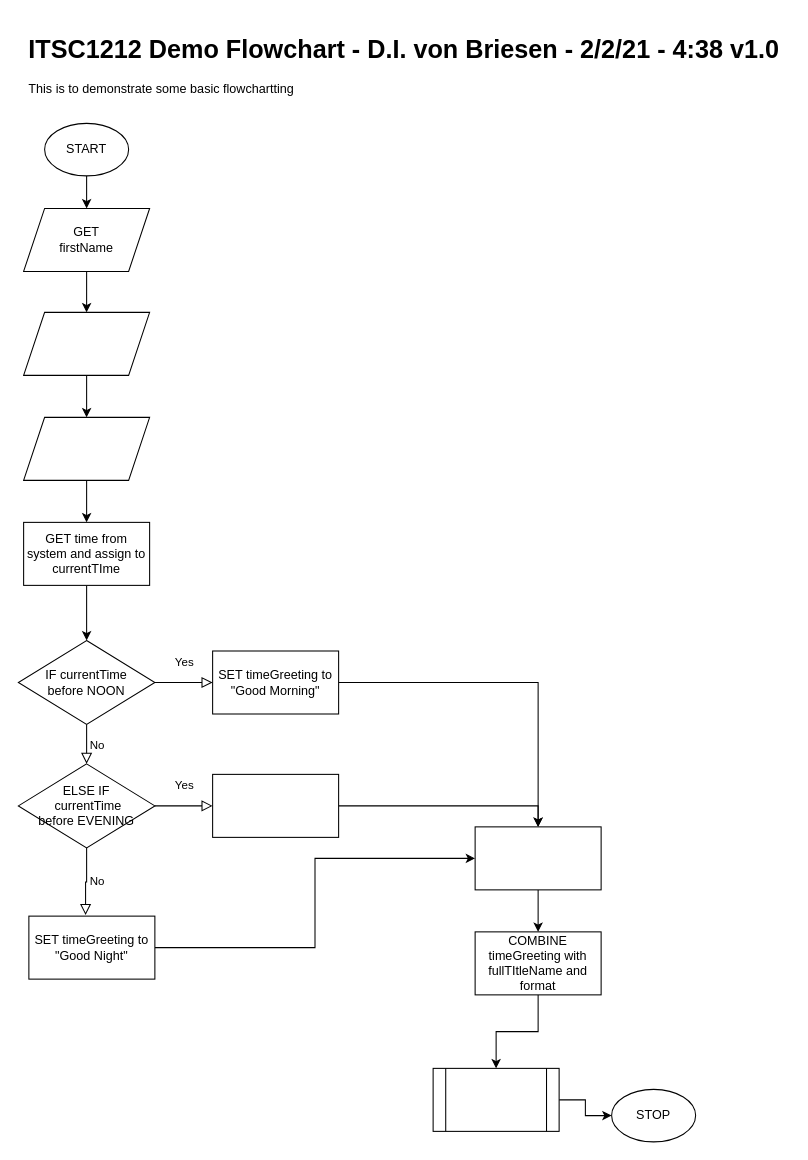
Some shapes in this 808 by 1160 pixel diagram are drawn without their labels. The shapes that lost their labels are listed below. From the top down, each one's box as (x1, y1, x2, y2) in pixels, then its label:
(23, 311, 150, 375): GET lastName
(23, 416, 150, 480): GET preferredTitle
(212, 773, 339, 837): SET timeGreeting to "Good Evening"
(474, 826, 601, 890): COMBINE Name and title as desired to fullTitledName
(432, 1067, 559, 1131): PRINT sGreeting
